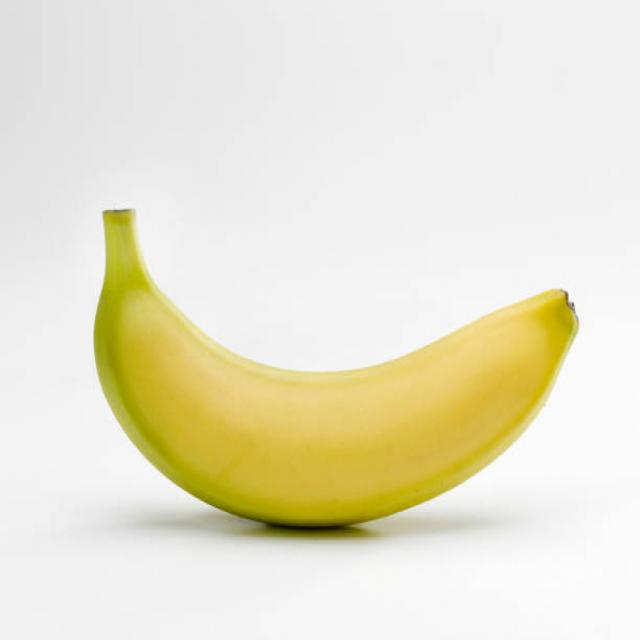Banana: (72, 177, 608, 586)
